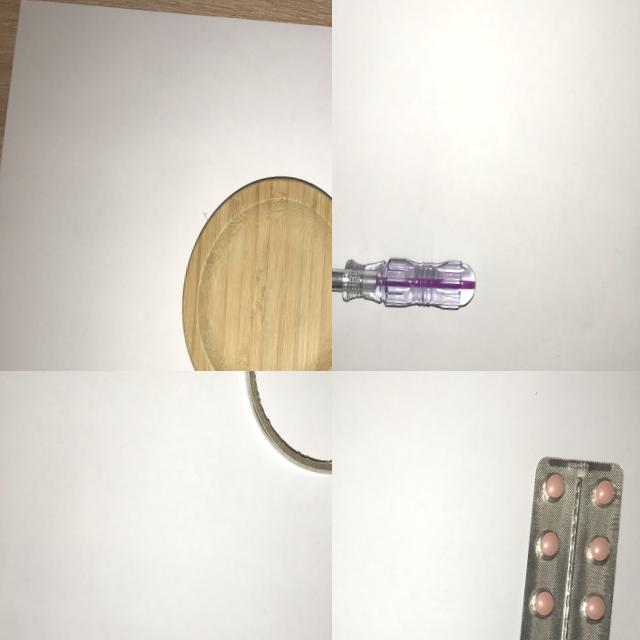cup_holder: (162, 156, 332, 371)
scotch: (227, 371, 332, 493)
screwdriver: (332, 237, 488, 328)
tablets: (499, 443, 634, 640)
